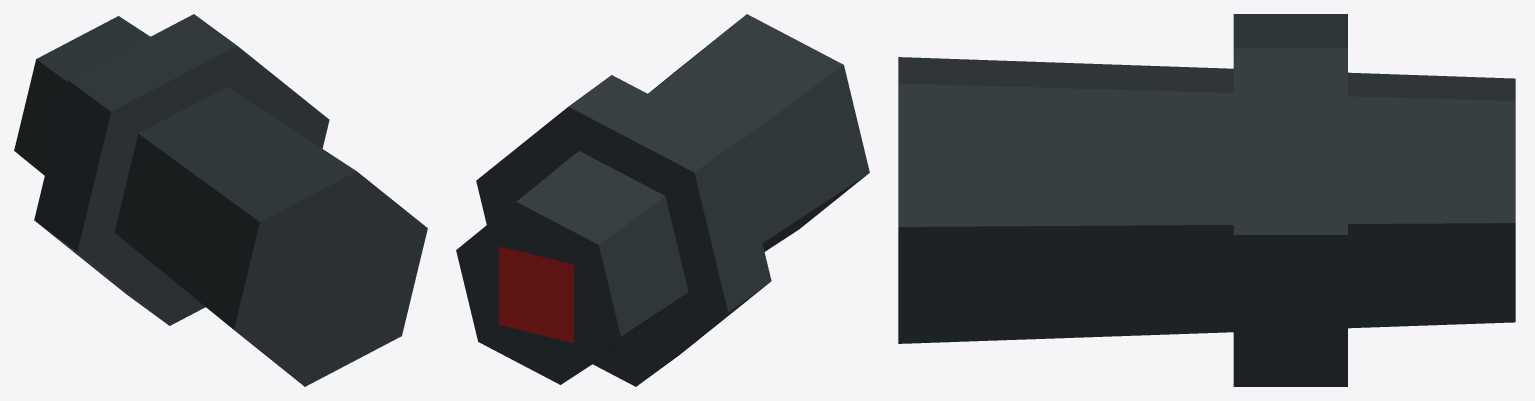
3 views of the same model, side by side, from view 1: azimuth 30°, elevation 25°; view 2: azimuth 150°, elevation 25°; view 3: azimuth 270°, elevation 25° (orthographic). The views are drawn at different scales.
Parts seen in each view (by area): view 1: mount; view 2: mount; view 3: mount.
Part boxes in pixels (x1=…): mount: x1=14, y1=14, x2=427, y2=386; mount: x1=456, y1=14, x2=869, y2=386; mount: x1=898, y1=14, x2=1515, y2=386.
Bounding box in the file's own units: 2.29 × 2.29 × 3.71.
